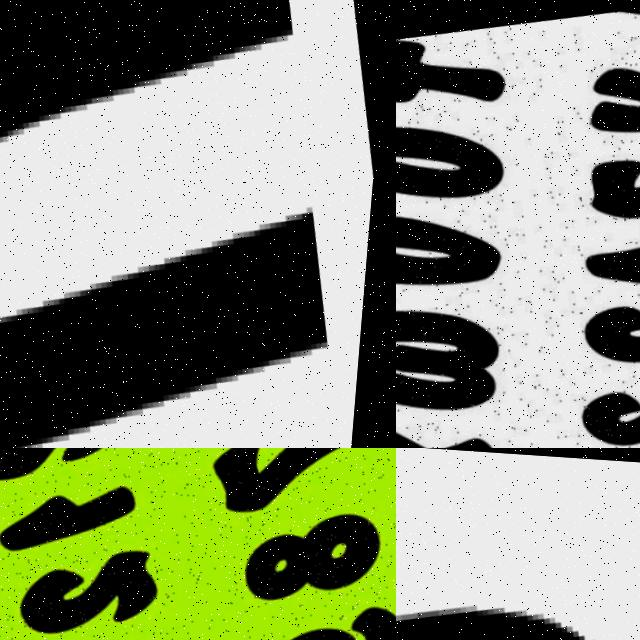1: (0, 457, 158, 569), (562, 201, 640, 322)
2: (1, 526, 185, 640), (565, 266, 640, 408)
3: (559, 349, 640, 448)
7: (180, 448, 380, 532)
8: (208, 478, 396, 627)
9: (239, 579, 396, 640)
D: (396, 541, 640, 640)
N: (0, 0, 383, 448)
